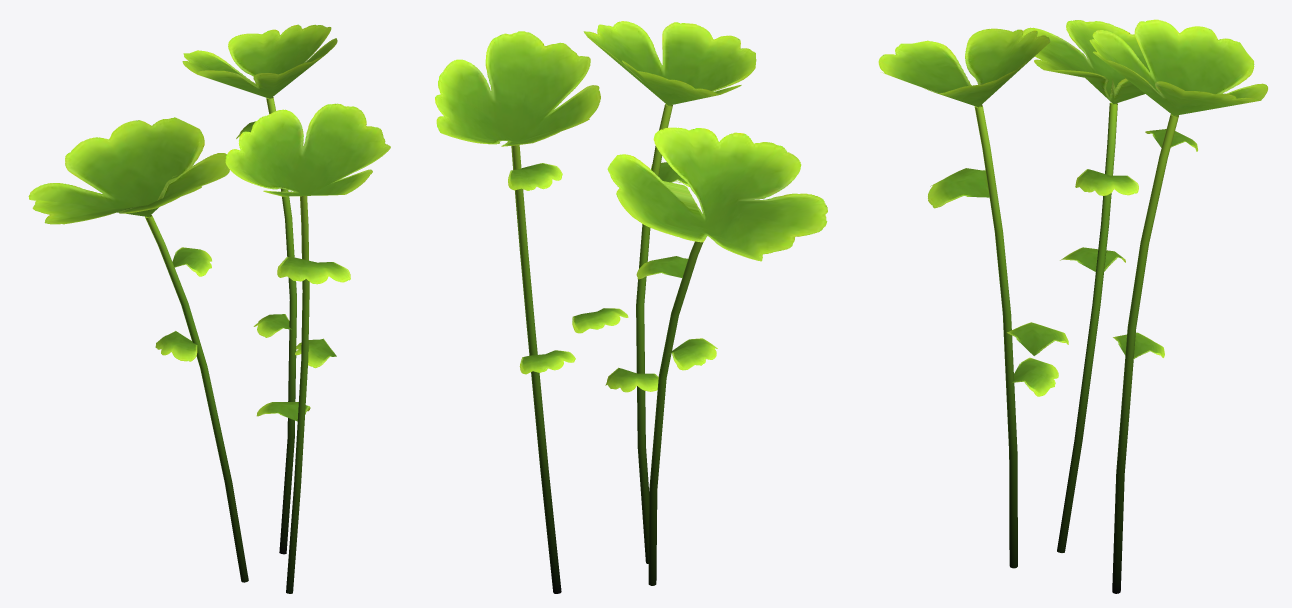
File: Clover_1.gltf
3 renders of one model, left to right at view 1: azimuth 30°, elevation 25°; view 2: azimuth 150°, elevation 25°; view 3: azimuth 270°, elevation 25°, orthographic. The views are drawn at different scales.
Visible parts, largest first — view 1: Clover_1; view 2: Clover_1; view 3: Clover_1.
Part boxes in pixels (x1,y1,x2,y2): Clover_1: [28, 24, 390, 593]; Clover_1: [435, 21, 827, 593]; Clover_1: [878, 19, 1267, 593].
Size of the model in its own units: 0.7963 by 1.14 by 0.7639.
1 material, 1 textured.
